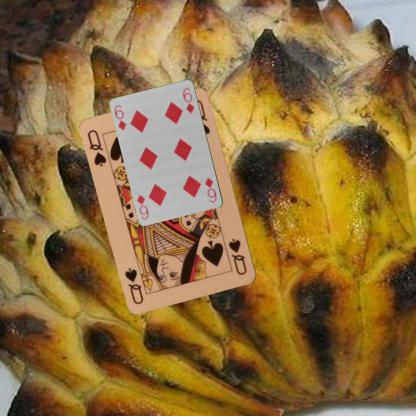6d: (112, 102, 128, 132), (202, 175, 218, 204)
Qs: (85, 127, 108, 168), (226, 236, 248, 276)
